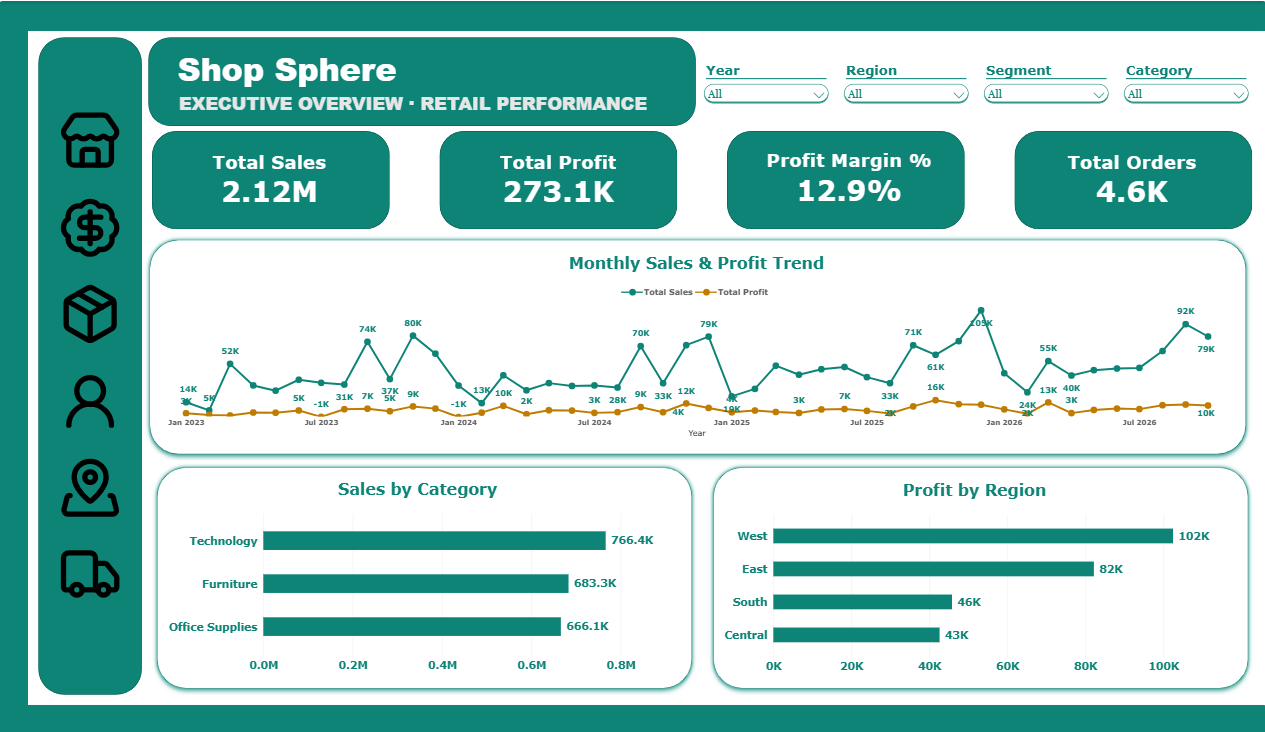

Layout of this report page (visuals, bound fields, positions):
{"tool":"powerbi","page":{"name":"01 Executive Overview","canvas":[1925,1111],"ordinal":0},"visuals":[{"type":"shape","box":[0,0,1926,46],"z":0},{"type":"shape","box":[229.1,54.9,829.3,134.4],"z":0,"group":"g6"},{"type":"group","id":"g1","title":"Group 2","box":[235.6,197.8,360.3,148.6],"z":0,"group":"g5"},{"type":"textbox","box":[257.3,67.4,739.4,106],"z":1000,"group":"g6"},{"type":"group","id":"g2","title":"Group 3","box":[671.2,197.8,360.3,148.6],"z":1000,"group":"g5"},{"type":"shape","box":[0,1066,1926,46],"z":1000},{"type":"shape","box":[0,22.7,47,1080.6],"z":2000},{"type":"group","id":"g3","title":"Group 4","box":[1106.9,197.8,360.3,148.6],"z":2000,"group":"g5"},{"type":"shape","box":[235.6,197.8,360.3,148.6],"z":3000,"group":"g1"},{"type":"group","id":"g4","title":"Group 5","box":[1542.5,197.8,360.3,148.6],"z":3000,"group":"g5"},{"type":"card","fields":{"Values":["Page1 Measures.Total Profit"]},"box":[704.9,246.6,289,121.5],"z":3000},{"type":"shape","box":[62.5,54.9,157.1,995.9],"z":4000},{"type":"shape","box":[222,352,1680,344],"z":5000},{"type":"lineChart","title":"Monthly Sales & Profit Trend","fields":{"Category":["Sales.Ship Date.Variation.Date Hierarchy.Year","Sales.Ship Date.Variation.Date Hierarchy.Month"],"Y":["Page1 Measures.Total Sales","Page1 Measures.Total Profit"]},"box":[242,368,1634,310],"z":6000},{"type":"group","id":"g5","title":"Group 6","box":[235.6,197.8,1668.9,147.8],"z":7000},{"type":"shape","box":[1542.5,197.8,360.3,148.6],"z":7000,"group":"g4"},{"type":"shape","box":[1106.9,197.8,360.3,148.6],"z":8000,"group":"g3"},{"type":"shape","box":[232.9,696.7,829.3,354.1],"z":8000},{"type":"shape","box":[671.2,197.8,360.3,148.6],"z":9000,"group":"g2"},{"type":"clusteredBarChart","title":"Sales by Category","fields":{"Category":["Sales.Category"],"Y":["Page1 Measures.Total Sales"]},"box":[242.3,710,789.5,325.7],"z":9000},{"type":"shape","box":[1075.4,696.7,829.3,354.1],"z":10000},{"type":"cardVisual","fields":{"Data":["Page1 Measures.Total Orders"]},"box":[1581.1,206,280.6,132.8],"z":11000,"group":"g4"},{"type":"clusteredBarChart","title":"Profit by Region","fields":{"Category":["Sales.Region"],"Y":["Page1 Measures.Total Profit"]},"box":[1084.9,711.9,791.4,325.7],"z":11000},{"type":"cardVisual","fields":{"Data":["Page1 Measures.Total Sales"]},"box":[274.2,206,280.6,132.8],"z":11001,"group":"g1"},{"type":"cardVisual","fields":{"Data":["Page1 Measures.Total Profit"]},"box":[711.6,206,280.6,132.8],"z":11002,"group":"g2"},{"type":"cardVisual","fields":{"Data":["Page1 Measures.Profit Margin %"]},"box":[1145.5,204.3,295.9,132.3],"z":11003,"group":"g3"},{"type":"group","id":"g6","title":"Group 1","box":[229.1,54.9,829.3,134.4],"z":12000},{"type":"slicer","fields":{"Values":["Sales.Ship Date.Variation.Date Hierarchy.Year"]},"box":[1065.9,93.2,198.8,71.9],"z":13000},{"type":"slicer","fields":{"Values":["Sales.Region"]},"box":[1278,93.2,198.8,71.9],"z":14000},{"type":"slicer","fields":{"Values":["Sales.Category"]},"box":[1702.1,93.2,198.8,71.9],"z":15000},{"type":"slicer","fields":{"Values":["Sales.Segment"]},"box":[1490.1,93.2,198.8,71.9],"z":16000},{"type":"image","box":[87.1,164.7,107.9,96.4],"z":17000,"group":"g7"},{"type":"image","box":[87.1,295.8,107.9,96.4],"z":18000,"group":"g7"},{"type":"image","box":[87.1,426.8,107.9,96.4],"z":19000,"group":"g7"},{"type":"image","box":[87.1,557.9,107.9,96.4],"z":20000,"group":"g7"},{"type":"image","box":[87.1,688.9,107.9,96.4],"z":21000,"group":"g7"},{"type":"image","box":[87.1,820,107.9,96.4],"z":22000,"group":"g7"},{"type":"group","id":"g7","title":"Group 7","box":[87.1,164.7,107.9,751.7],"z":22001}]}

Visuals, with their boxes in screenshot pixels (x1, y1, x2, y2), scaled from the page's 1925x1111 canvas onto the 1265x732 screenshot:
shape: x1=0, y1=0, x2=1264, y2=30
shape: x1=151, y1=36, x2=696, y2=125
"Group 2" group: x1=155, y1=130, x2=392, y2=228
textbox: x1=169, y1=44, x2=655, y2=114
"Group 3" group: x1=441, y1=130, x2=678, y2=228
shape: x1=0, y1=702, x2=1264, y2=731
shape: x1=0, y1=15, x2=31, y2=727
"Group 4" group: x1=727, y1=130, x2=964, y2=228
shape: x1=155, y1=130, x2=392, y2=228
"Group 5" group: x1=1014, y1=130, x2=1250, y2=228
card - Page1 Measures.Total Profit: x1=463, y1=162, x2=653, y2=243
shape: x1=41, y1=36, x2=144, y2=692
shape: x1=146, y1=232, x2=1250, y2=459
"Monthly Sales & Profit Trend" lineChart: x1=159, y1=242, x2=1233, y2=447
"Group 6" group: x1=155, y1=130, x2=1252, y2=228
shape: x1=1014, y1=130, x2=1250, y2=228
shape: x1=727, y1=130, x2=964, y2=228
shape: x1=153, y1=459, x2=698, y2=692
shape: x1=441, y1=130, x2=678, y2=228
"Sales by Category" clusteredBarChart: x1=159, y1=468, x2=678, y2=682
shape: x1=707, y1=459, x2=1252, y2=692
cardVisual - Page1 Measures.Total Orders: x1=1039, y1=136, x2=1223, y2=223
"Profit by Region" clusteredBarChart: x1=713, y1=469, x2=1233, y2=684
cardVisual - Page1 Measures.Total Sales: x1=180, y1=136, x2=365, y2=223
cardVisual - Page1 Measures.Total Profit: x1=468, y1=136, x2=652, y2=223
cardVisual - Page1 Measures.Profit Margin %: x1=753, y1=135, x2=947, y2=222
"Group 1" group: x1=151, y1=36, x2=696, y2=125
slicer - Sales.Ship Date.Variation.Date Hierarchy.Year: x1=700, y1=61, x2=831, y2=109
slicer - Sales.Region: x1=840, y1=61, x2=970, y2=109
slicer - Sales.Category: x1=1119, y1=61, x2=1249, y2=109
slicer - Sales.Segment: x1=979, y1=61, x2=1110, y2=109
image: x1=57, y1=109, x2=128, y2=172
image: x1=57, y1=195, x2=128, y2=258
image: x1=57, y1=281, x2=128, y2=345
image: x1=57, y1=368, x2=128, y2=431
image: x1=57, y1=454, x2=128, y2=517
image: x1=57, y1=540, x2=128, y2=604
"Group 7" group: x1=57, y1=109, x2=128, y2=604
